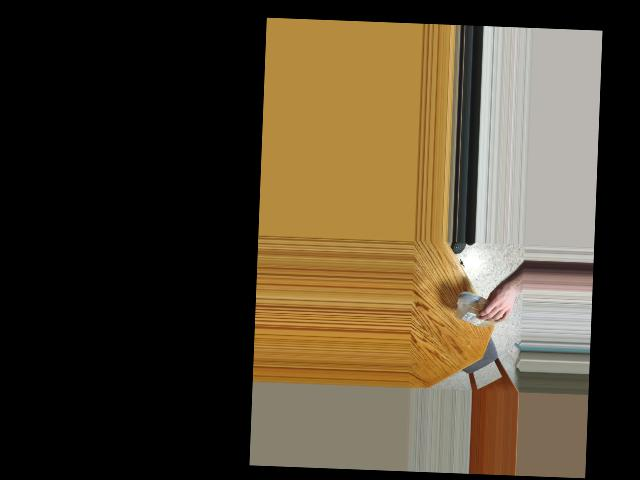cheese: (457, 293, 497, 328)
